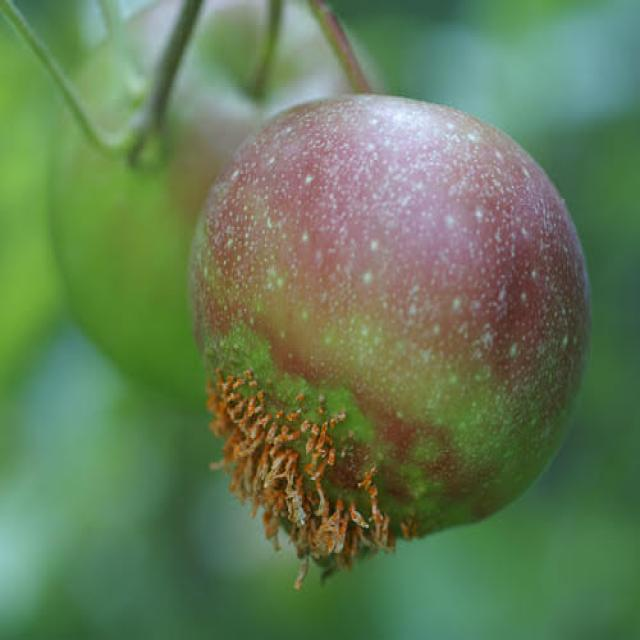Gymnosporangium_Rusts: (186, 89, 592, 588)
